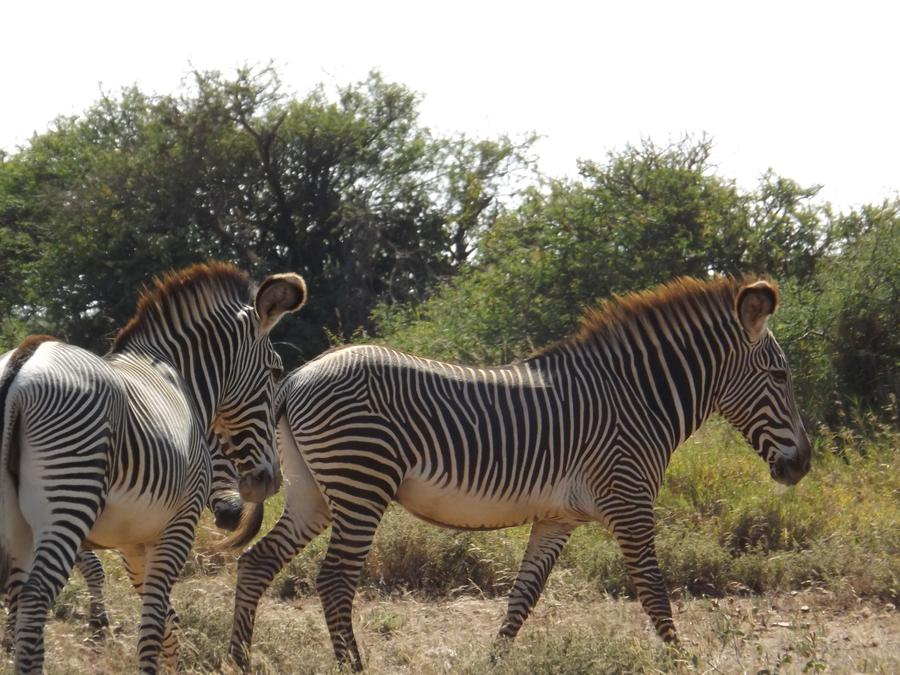zebra_grevys: (291, 332, 668, 509)
